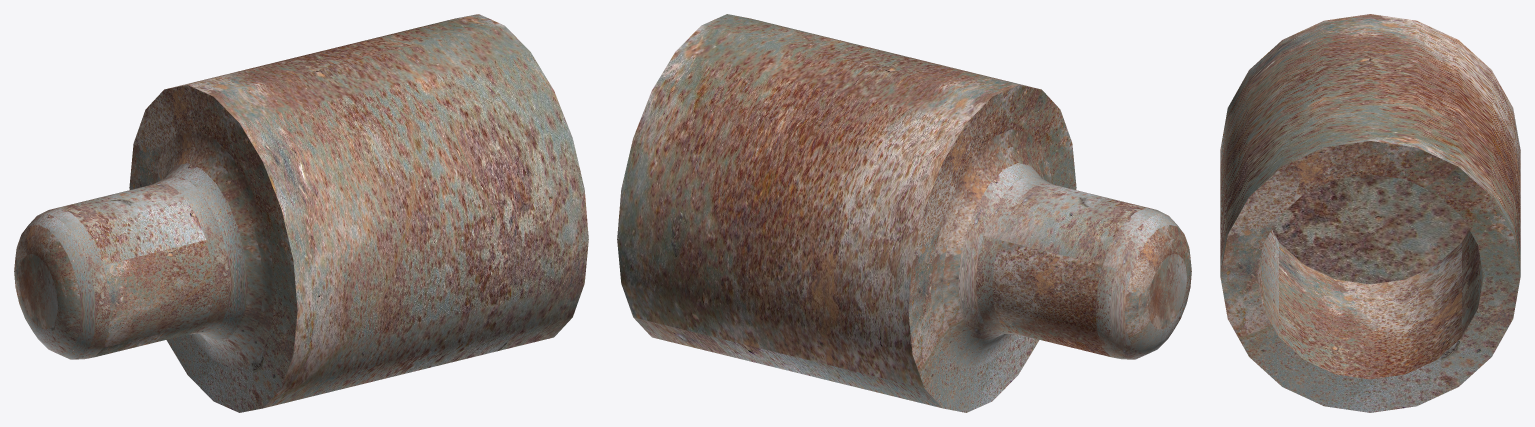
File: enginepart3.fbx
The picture shows the model from 3 angles, left to right: view 1: azimuth 30°, elevation 25°; view 2: azimuth 150°, elevation 25°; view 3: azimuth 270°, elevation 25°; orthographic projection. The views are drawn at different scales.
Parts seen in each view (by area): view 1: enginepart3; view 2: enginepart3; view 3: enginepart3.
Part boxes in pixels (<box>): enginepart3: <box>14,14,588,412</box>; enginepart3: <box>617,14,1191,412</box>; enginepart3: <box>1220,14,1520,412</box>.
Bounding box in the file's own units: 50.03 × 31.25 × 31.25.
1 material, 1 textured.
